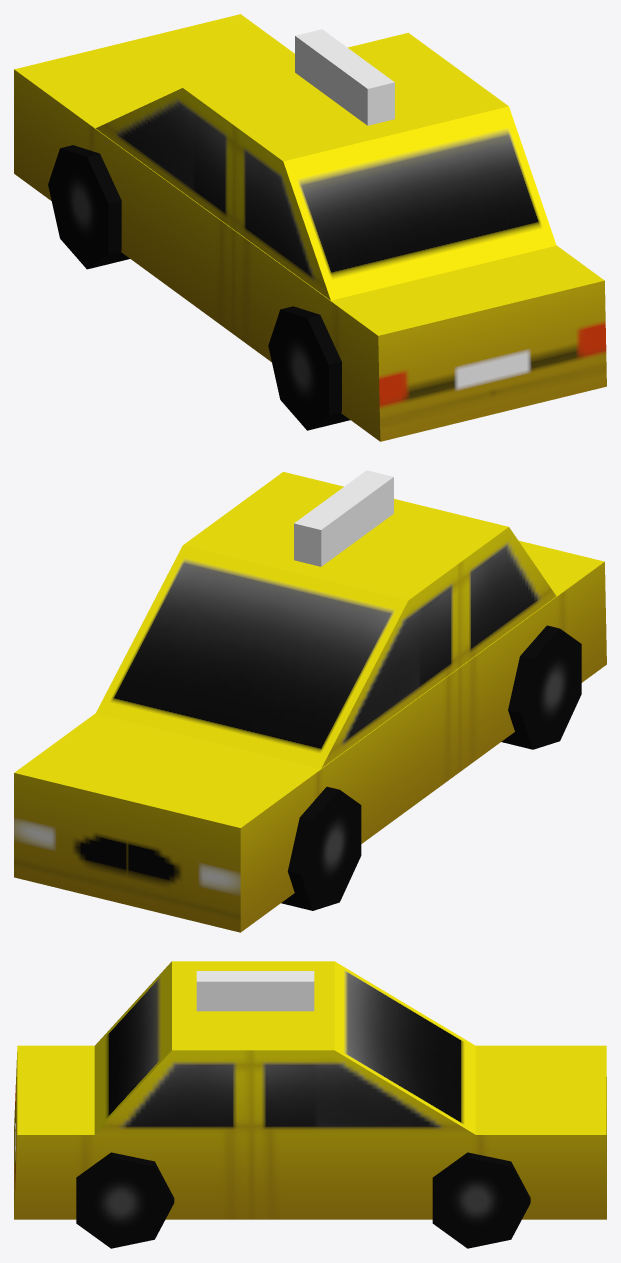
The model's file is cab.fbx.
The picture shows the model from 3 angles, top to bottom: view 1: azimuth 30°, elevation 25°; view 2: azimuth 150°, elevation 25°; view 3: azimuth 270°, elevation 25°; orthographic projection. The views are drawn at different scales.
Parts seen in each view (by area): view 1: polySurface32; view 2: polySurface32; view 3: polySurface32.
Boxes of the visible parts, x1,y1,x2,y2 form: polySurface32: (14,14,606,441); polySurface32: (14,470,606,932); polySurface32: (14,961,606,1248).
Bounding box in the file's own units: 15.72 × 16.36 × 39.46.
Materials: 1 (1 with a texture image).
